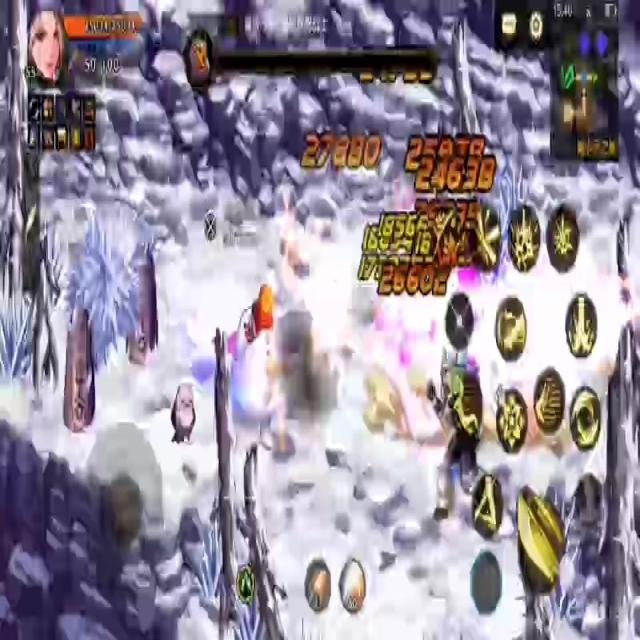player: (224, 275, 281, 455)
